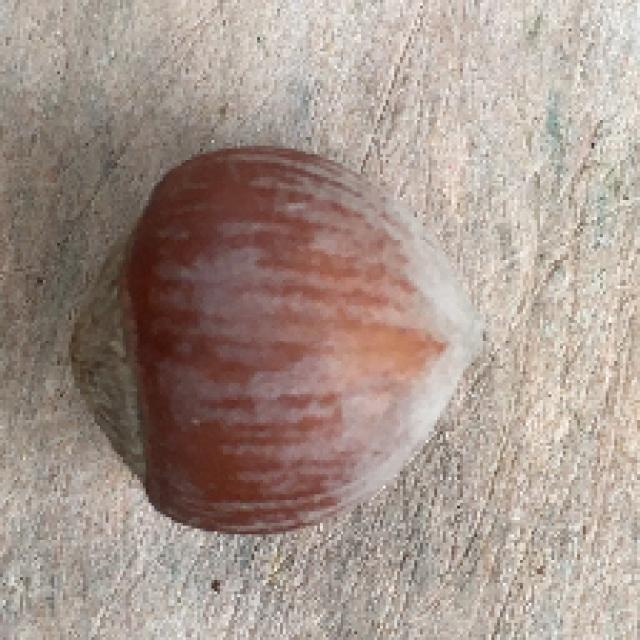QualityHazelnut: (67, 147, 496, 537)
